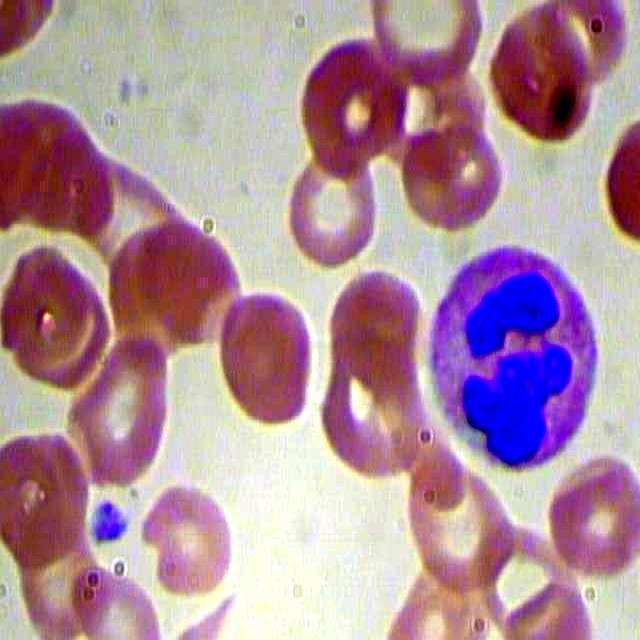Platelets: (86, 500, 133, 553)
RBC: (48, 325, 179, 495), (1, 237, 116, 395), (484, 3, 603, 152), (297, 28, 411, 175), (398, 447, 512, 593), (217, 286, 319, 442), (137, 469, 243, 604), (538, 453, 640, 591), (397, 109, 506, 235), (280, 140, 381, 272), (1, 424, 91, 569)
WBC: (412, 236, 613, 473)
